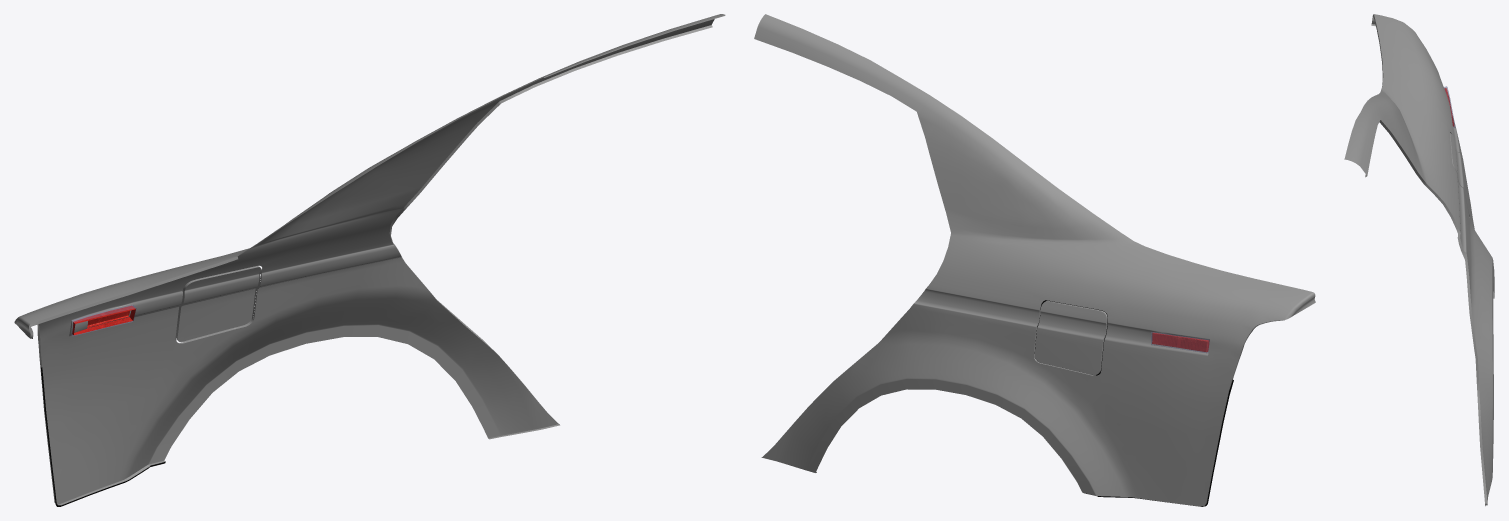
The picture shows the model from 3 angles, left to right: view 1: azimuth 30°, elevation 25°; view 2: azimuth 150°, elevation 25°; view 3: azimuth 270°, elevation 25°; orthographic projection. The views are drawn at different scales.
Parts seen in each view (by area): view 1: X8163_381B_L_X8163_381B_L_1_DaS, X8163_381B_L_X8163_381B_L_1_DaS_E, X8163_381B_L_X8163_381B_L_3_N; view 2: X8163_381B_L_X8163_381B_L_1_DaS, X8163_381B_L_2_DTaSI_X8163_381B_L, X8163_381B_L_X8163_381B_L_3_N, X8163_381B_L_X8163_381B_L_1_DaS_E; view 3: X8163_381B_L_X8163_381B_L_1_DaS, X8163_381B_L_X8163_381B_L_1_DaS_E.
Part boxes in pixels (x1,y1,x2,y2): X8163_381B_L_X8163_381B_L_1_DaS: [14, 14, 724, 504]; X8163_381B_L_X8163_381B_L_1_DaS_E: [29, 15, 725, 505]; X8163_381B_L_X8163_381B_L_3_N: [72, 305, 135, 335]; X8163_381B_L_X8163_381B_L_1_DaS: [754, 14, 1315, 506]; X8163_381B_L_2_DTaSI_X8163_381B_L: [1151, 332, 1209, 353]; X8163_381B_L_X8163_381B_L_3_N: [1152, 332, 1209, 352]; X8163_381B_L_X8163_381B_L_1_DaS_E: [816, 62, 1284, 503]; X8163_381B_L_X8163_381B_L_1_DaS: [1344, 14, 1494, 502]; X8163_381B_L_X8163_381B_L_1_DaS_E: [1356, 14, 1494, 505].
Bounding box in the file's own units: 182 × 116 × 41.5.
